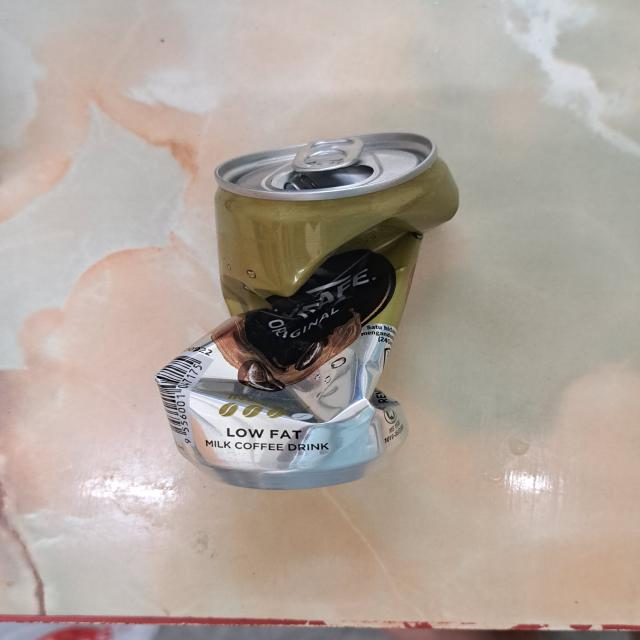can: (158, 133, 471, 504)
pop tab: (294, 133, 363, 175)
